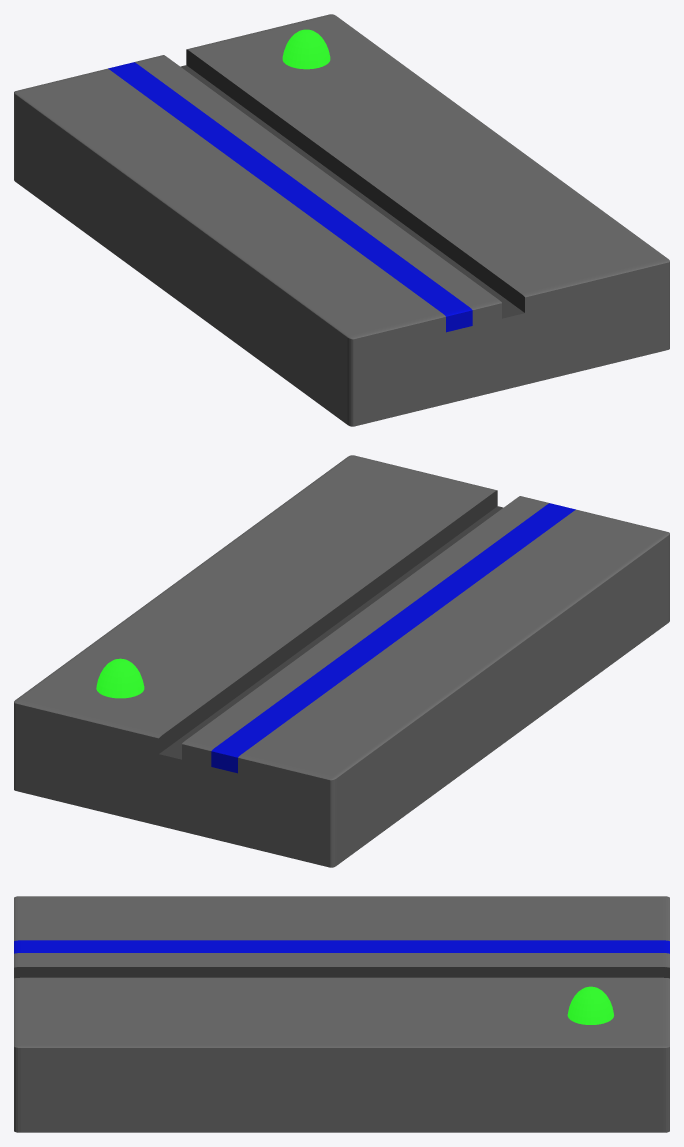
File: BlueKeyCardScannerGL.glb
The picture shows the model from 3 angles, top to bottom: view 1: azimuth 30°, elevation 25°; view 2: azimuth 150°, elevation 25°; view 3: azimuth 270°, elevation 25°; orthographic projection. The views are drawn at different scales.
Visible parts, largest first — view 1: Base, Light; view 2: Base, Light; view 3: Base, Light.
Boxes of the visible parts, <box> form: Base: <box>14,14,669,426</box>; Light: <box>282,29,330,69</box>; Base: <box>14,455,669,867</box>; Light: <box>96,658,144,698</box>; Base: <box>14,896,669,1132</box>; Light: <box>567,986,613,1024</box>.
Size of the model in its own units: 0.055 by 0.0192 by 0.1006.
